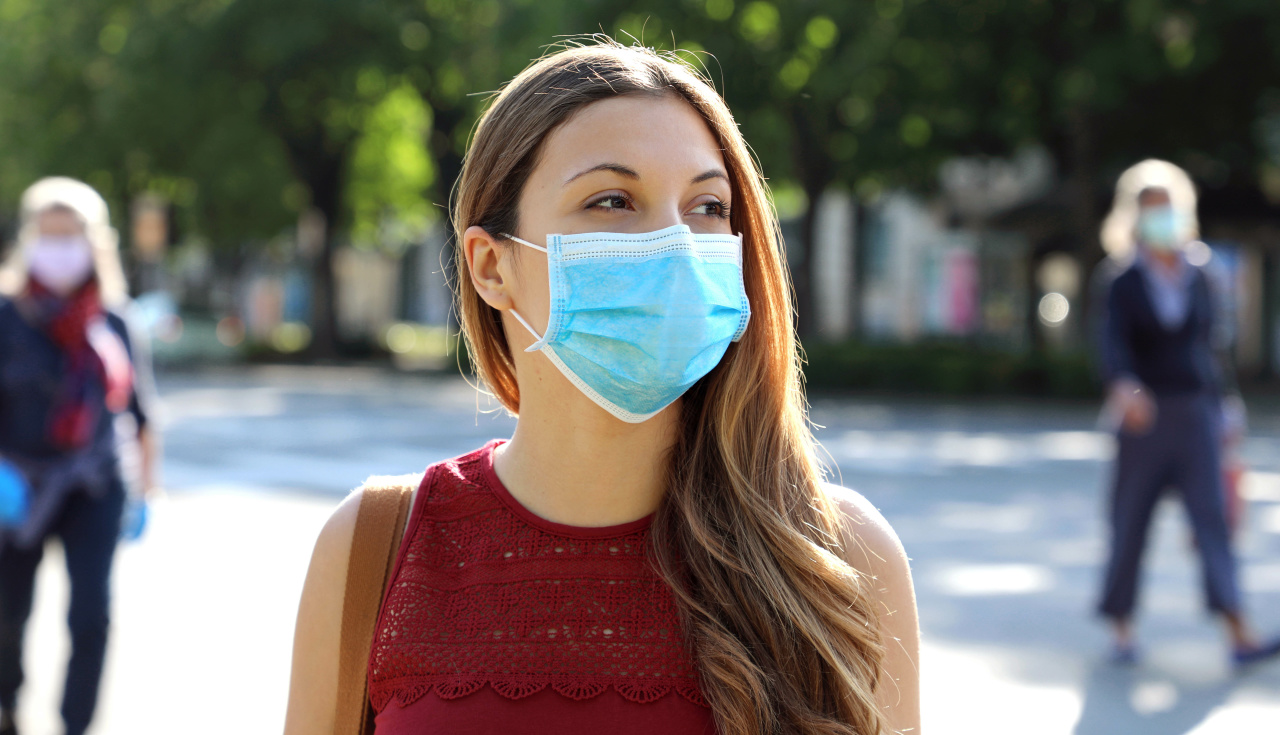with_mask: (503, 88, 739, 414)
